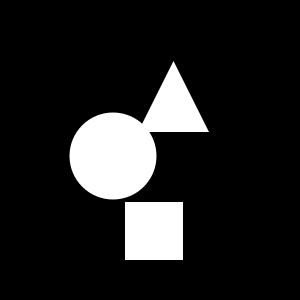circle: (125, 202, 183, 260)
rectangle: (70, 112, 156, 200)
triangle: (138, 61, 209, 132)
